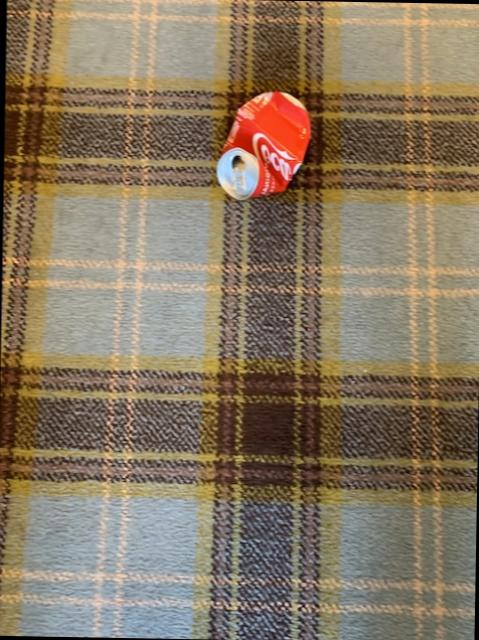metal: (214, 94, 307, 201)
